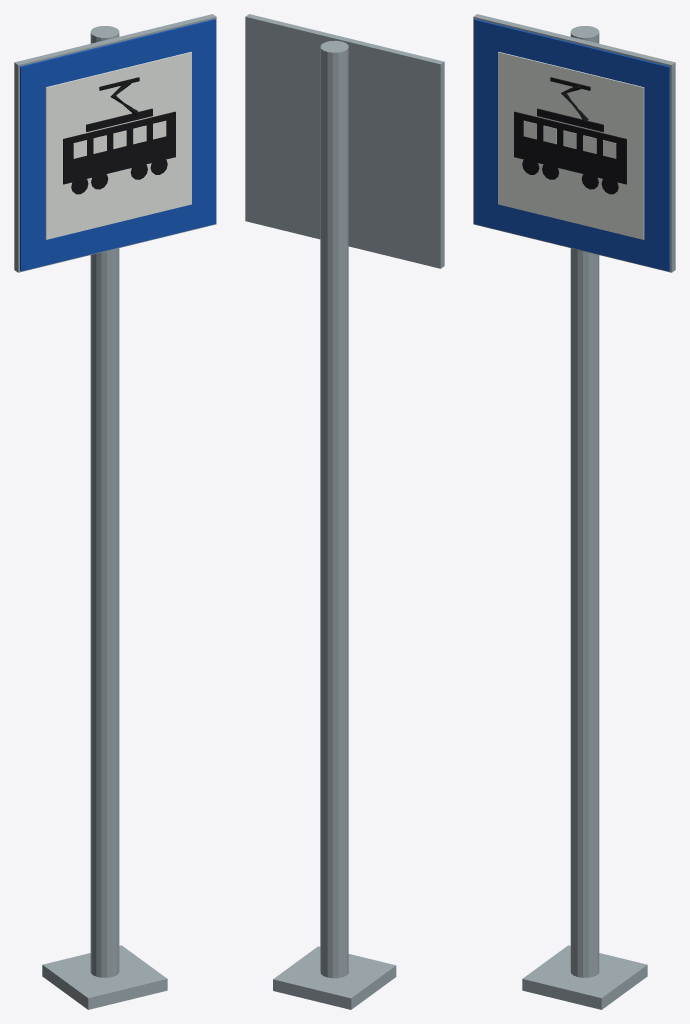
Rendered from PT_Sign_5_17_TramStop.glb.
3 renders of one model, left to right at view 1: azimuth 30°, elevation 25°; view 2: azimuth 150°, elevation 25°; view 3: azimuth 330°, elevation 25°, orthographic.
Visible parts, largest first — view 1: Post, Face_Blue, Face_White, Pictogram, Plate_Back, Pictogram_Windows; view 2: Plate_Back, Post; view 3: Post, Face_Blue, Face_White, Pictogram, Plate_Back, Pictogram_Windows.
Boxes of the visible parts, x1,y1,x2,y2 form: Post: (42, 26, 167, 1009); Face_Blue: (20, 19, 215, 271); Face_White: (45, 52, 191, 239); Pictogram: (63, 77, 175, 194); Plate_Back: (14, 14, 216, 272); Pictogram_Windows: (73, 120, 166, 158); Plate_Back: (245, 14, 444, 268); Post: (273, 40, 396, 1009); Post: (522, 26, 647, 1009); Face_Blue: (474, 19, 669, 271); Face_White: (498, 52, 644, 239); Pictogram: (514, 77, 626, 194); Plate_Back: (473, 14, 675, 272); Pictogram_Windows: (523, 120, 616, 158).
Size of the model in its own units: 0.6 by 2.75 by 0.24.
